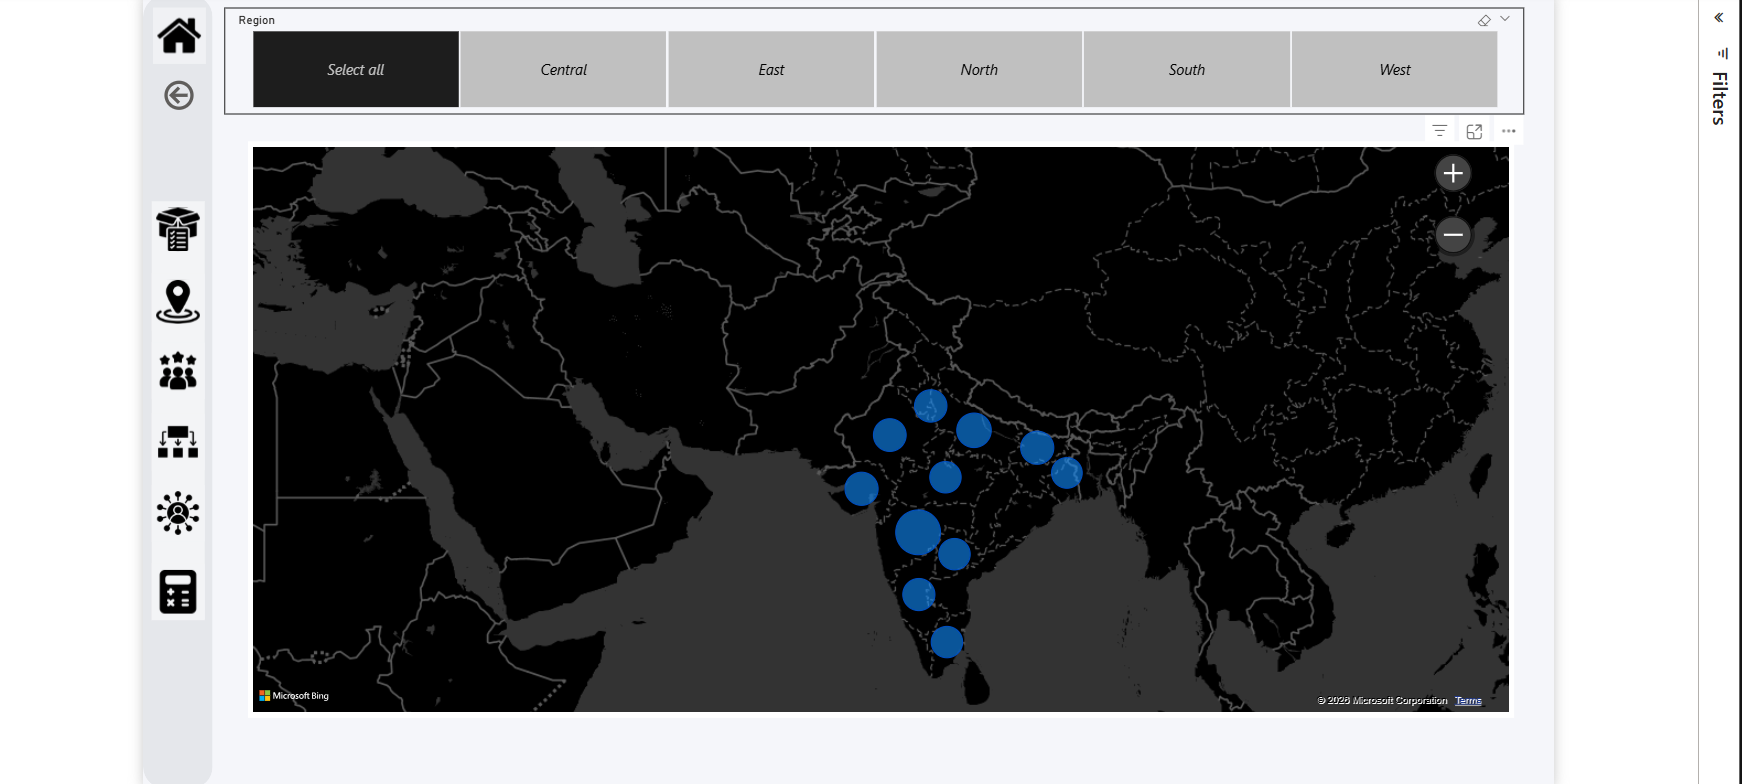

This screenshot's page, from the dashboard's own definition file:
{"tool":"powerbi","page":{"name":"Map","canvas":[1280,720],"ordinal":2},"visuals":[{"type":"shape","box":[0,0,63.2,720.2],"z":0},{"type":"actionButton","box":[7.9,315.3,47.6,51],"z":0,"group":"g1"},{"type":"map","fields":{"Category":["india_superstore_clean_final.State"],"Size":["Measure.Total Revenue"]},"box":[95.3,132.7,1149,522.9],"z":1000},{"type":"actionButton","box":[7.9,252.9,47.6,51],"z":1000,"group":"g1"},{"type":"slicer","fields":{"Values":["india_superstore_clean_final.Region"]},"box":[73.7,11.3,1179.6,97.5],"z":2000},{"type":"actionButton","box":[7.9,187.1,47.6,51],"z":2000,"group":"g1"},{"type":"actionButton","box":[14.5,71.5,35.9,39.7],"z":3000},{"type":"actionButton","box":[7.9,379.9,47.6,51],"z":3000,"group":"g1"},{"type":"actionButton","box":[7.9,444.6,47.6,51],"z":4000,"group":"g1"},{"type":"group","id":"g1","title":"Group 1","box":[7.9,187.1,47.6,380],"z":4001},{"type":"actionButton","box":[9.1,11.3,47.6,51],"z":4002},{"type":"actionButton","box":[7.9,516,47.6,51],"z":5000,"group":"g1"}]}

Visuals, with their boxes on the page's 1280x720 design canvas (x1, y1, x2, y2). These are canvas units, not pixel positions in the 1742x784 screenshot, which may show the page scaled, cropped or inside an application window:
shape: pyautogui.locateOnScreen(0, 0, 63, 720)
actionButton: pyautogui.locateOnScreen(8, 315, 56, 366)
map - india_superstore_clean_final.State x Measure.Total Revenue: pyautogui.locateOnScreen(95, 133, 1244, 656)
actionButton: pyautogui.locateOnScreen(8, 253, 56, 304)
slicer - india_superstore_clean_final.Region: pyautogui.locateOnScreen(74, 11, 1253, 109)
actionButton: pyautogui.locateOnScreen(8, 187, 56, 238)
actionButton: pyautogui.locateOnScreen(14, 72, 50, 111)
actionButton: pyautogui.locateOnScreen(8, 380, 56, 431)
actionButton: pyautogui.locateOnScreen(8, 445, 56, 496)
"Group 1" group: pyautogui.locateOnScreen(8, 187, 56, 567)
actionButton: pyautogui.locateOnScreen(9, 11, 57, 62)
actionButton: pyautogui.locateOnScreen(8, 516, 56, 567)
